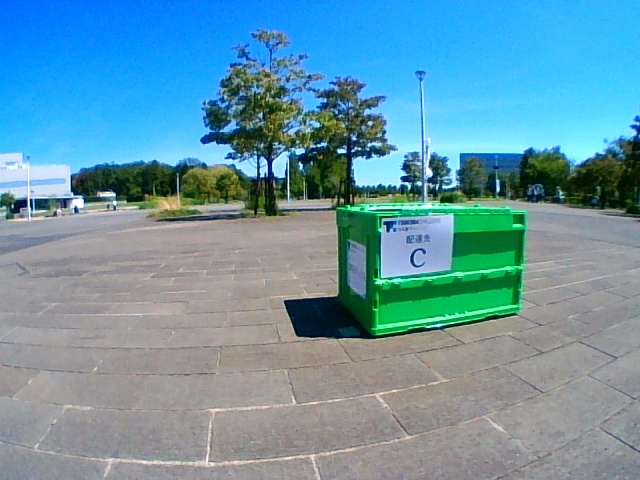green_box: (336, 203, 527, 336)
tag_c: (388, 221, 449, 270)
